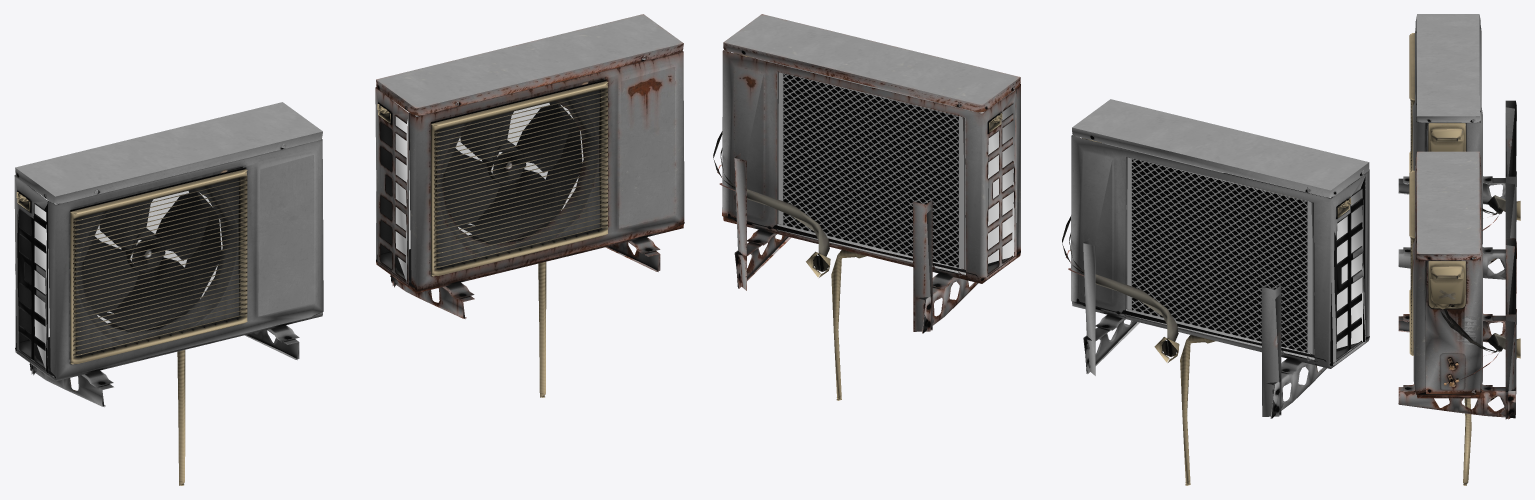
File: exterior_aircon_unit.glb
3 renders of one model, left to right at view 1: azimuth 30°, elevation 25°; view 2: azimuth 150°, elevation 25°; view 3: azimuth 270°, elevation 25°, orthographic. The views are drawn at different scales.
Visible parts, largest first — view 1: exterior_aircon_unit, exterior_aircon_unit_rusted; view 2: exterior_aircon_unit_rusted, exterior_aircon_unit; view 3: exterior_aircon_unit_rusted, exterior_aircon_unit.
Boxes of the visible parts, x1,y1,x2,y2 form: exterior_aircon_unit: [14, 102, 323, 485]; exterior_aircon_unit_rusted: [375, 14, 684, 397]; exterior_aircon_unit_rusted: [713, 14, 1020, 400]; exterior_aircon_unit: [1062, 99, 1369, 485]; exterior_aircon_unit_rusted: [1398, 151, 1520, 485]; exterior_aircon_unit: [1398, 14, 1520, 279].
Bounding box in the file's own units: 1.8 × 0.9265 × 0.3748.
Materials: 4 (4 with a texture image).
